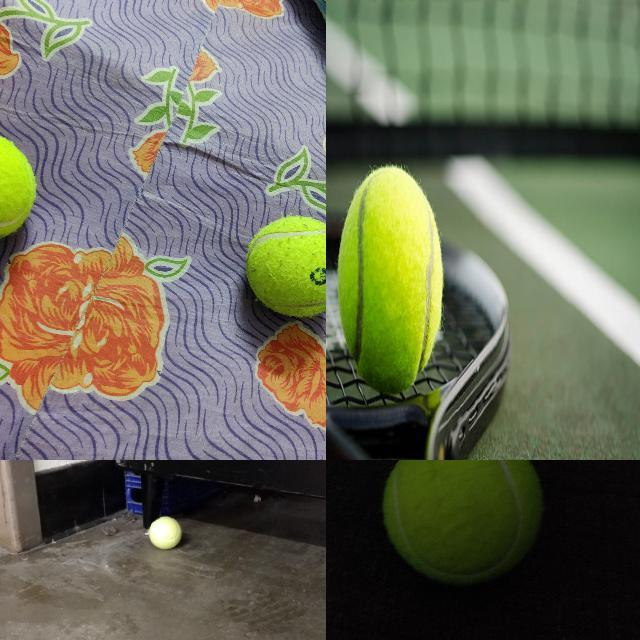tennis-ball: (338, 164, 443, 389), (381, 460, 543, 586), (245, 214, 325, 317), (0, 129, 38, 244), (148, 516, 182, 549)
